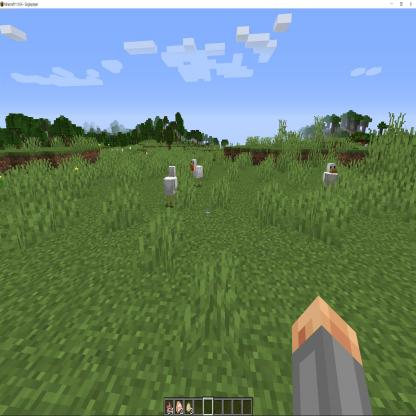minecraft-pigs: (321, 159, 340, 200), (164, 164, 180, 208), (189, 156, 204, 187)
